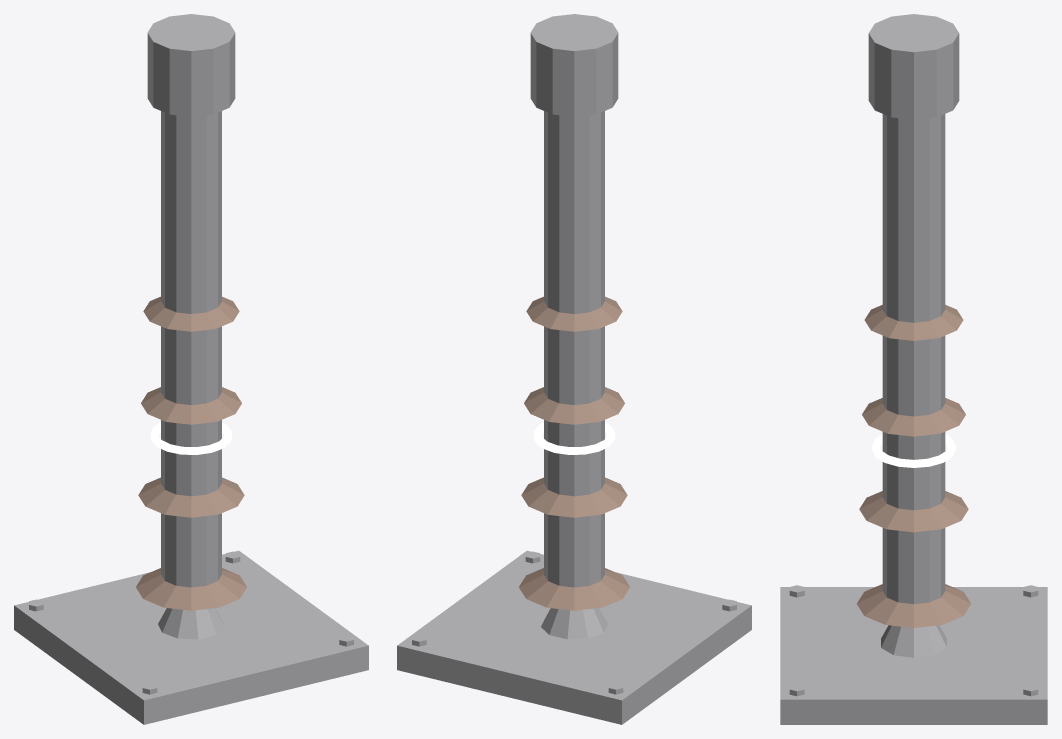
Rendered from drill_bit_uncommon.glb.
The picture shows the model from 3 angles, left to right: view 1: azimuth 30°, elevation 25°; view 2: azimuth 150°, elevation 25°; view 3: azimuth 270°, elevation 25°; orthographic projection. The views are drawn at different scales.
Parts seen in each view (by area): view 1: drill_bit; view 2: drill_bit; view 3: drill_bit.
Part boxes in pixels (x1=…): drill_bit: x1=14, y1=14, x2=368, y2=724; drill_bit: x1=397, y1=14, x2=751, y2=724; drill_bit: x1=780, y1=14, x2=1047, y2=724.
Size of the model in its own units: 1.54 by 4.03 by 1.54.
